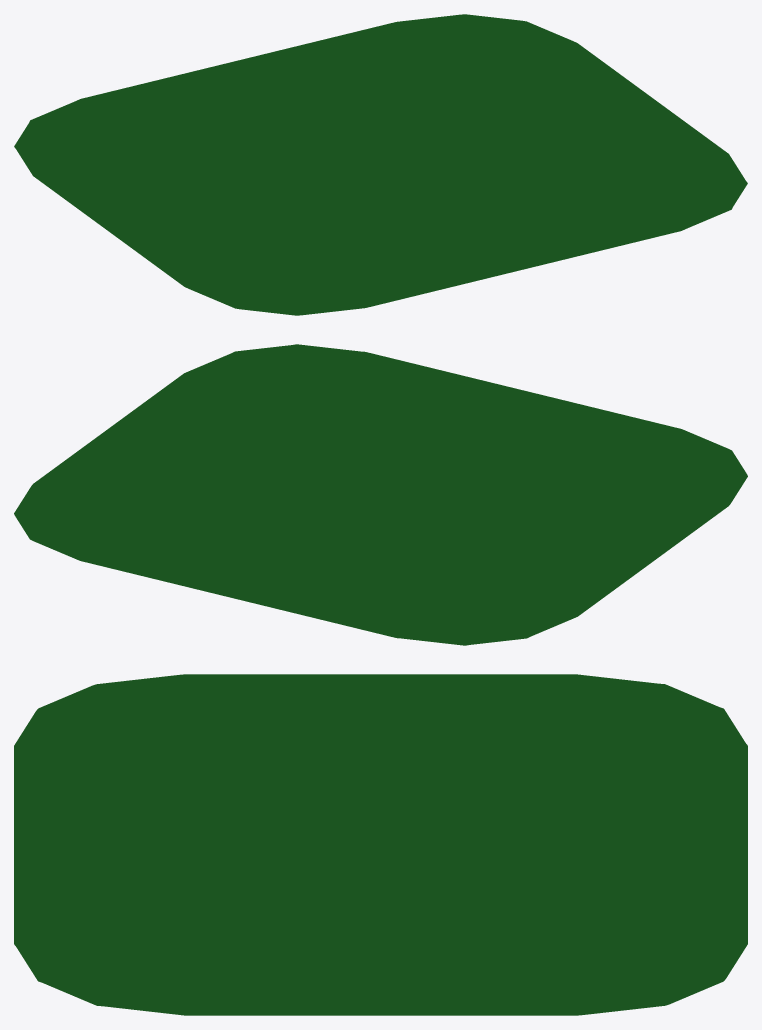
The model's file is InnerBin.FBX.
3 renders of one model, top to bottom at view 1: azimuth 30°, elevation 25°; view 2: azimuth 150°, elevation 25°; view 3: azimuth 270°, elevation 25°, orthographic. The views are drawn at different scales.
Parts seen in each view (by area): view 1: Plane001; view 2: Plane001; view 3: Plane001.
Part boxes in pixels (x1=…): Plane001: x1=14, y1=14, x2=747, y2=315; Plane001: x1=14, y1=344, x2=747, y2=645; Plane001: x1=14, y1=674, x2=747, y2=1015.
Bounding box in the file's own units: 12 × 6.67e-16 × 10.9.
